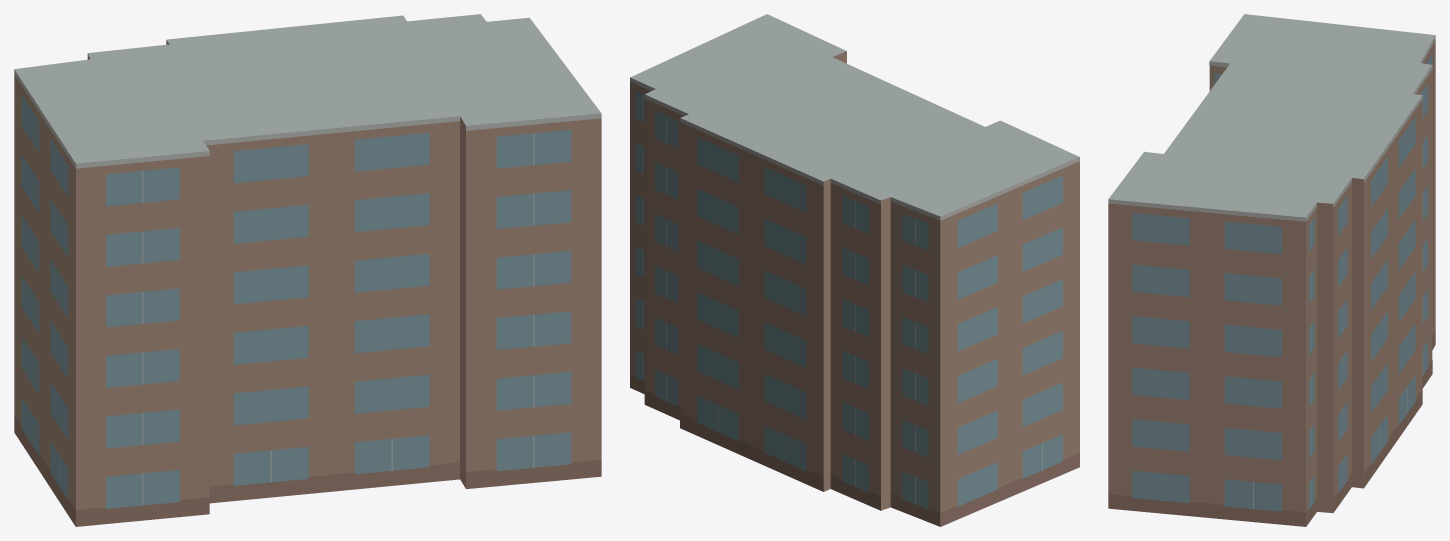
Rendered from survey-upis-32856417.glb.
The picture shows the model from 3 angles, left to right: view 1: azimuth 30°, elevation 25°; view 2: azimuth 150°, elevation 25°; view 3: azimuth 270°, elevation 25°; orthographic projection. The views are drawn at different scales.
Parts seen in each view (by area): view 1: survey-upis-32856417.tmp; view 2: survey-upis-32856417.tmp; view 3: survey-upis-32856417.tmp.
Part boxes in pixels (x1,y1,x2,y2): survey-upis-32856417.tmp: [14, 14, 601, 526]; survey-upis-32856417.tmp: [630, 14, 1079, 526]; survey-upis-32856417.tmp: [1108, 14, 1435, 526].
Size of the model in its own units: 25.43 by 18 by 17.28.
